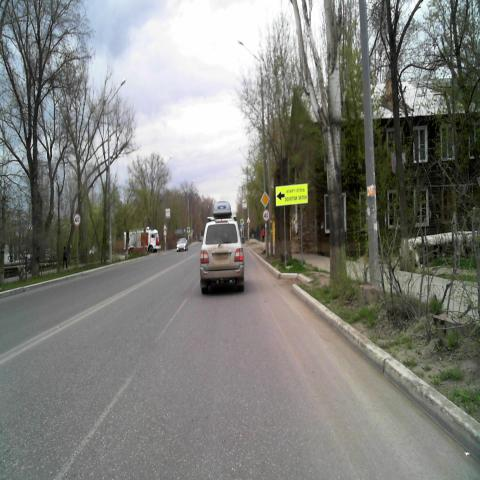3_24: (73, 213, 81, 227)
